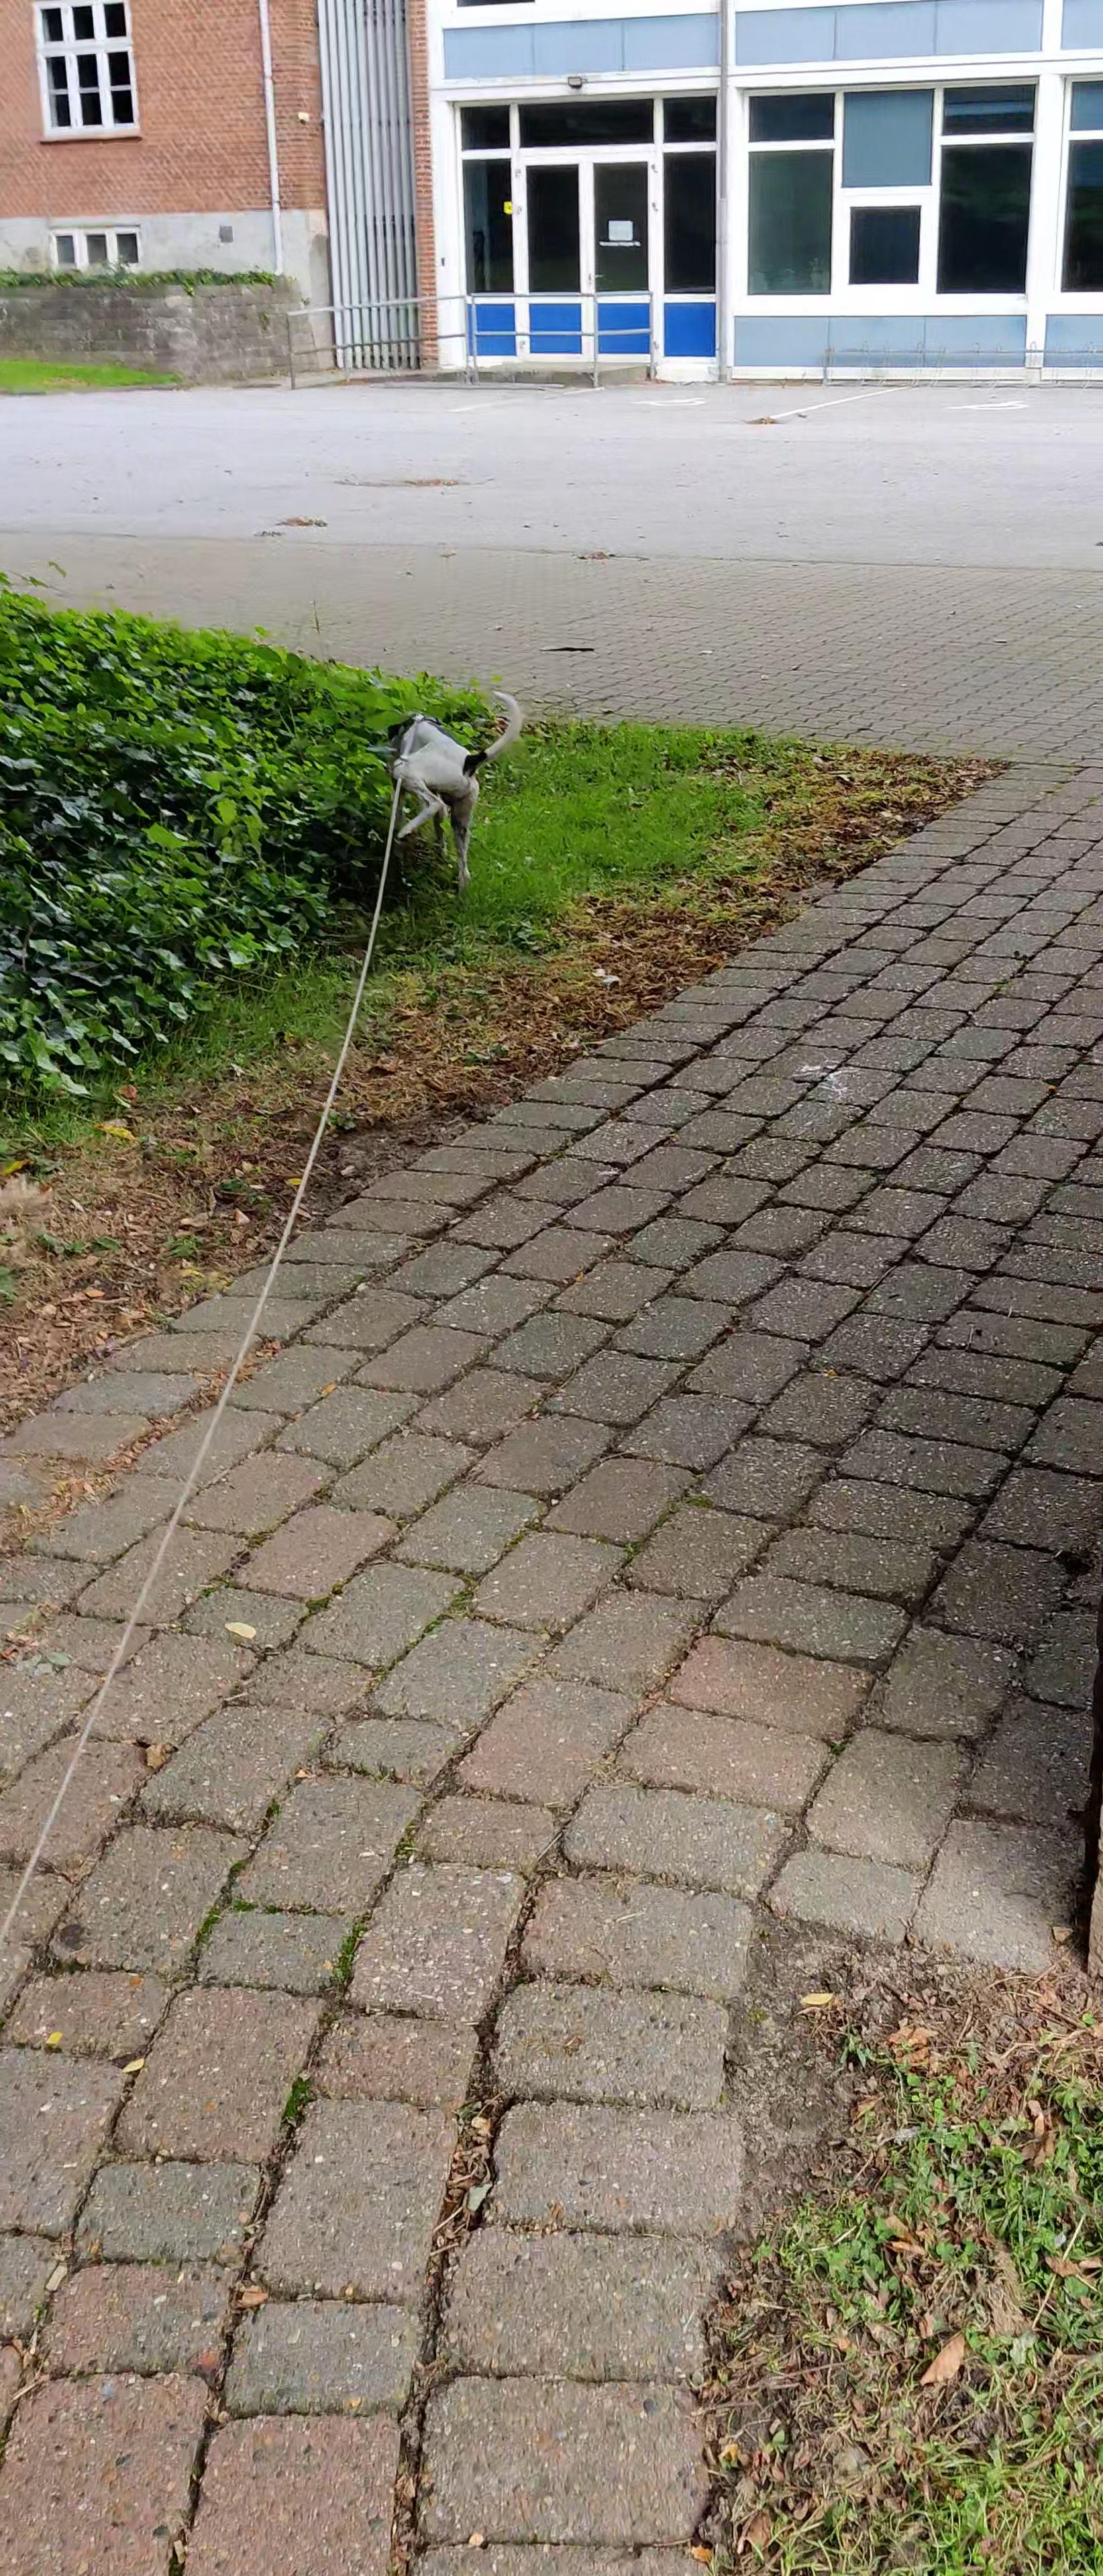Dog: (378, 688, 526, 890)
